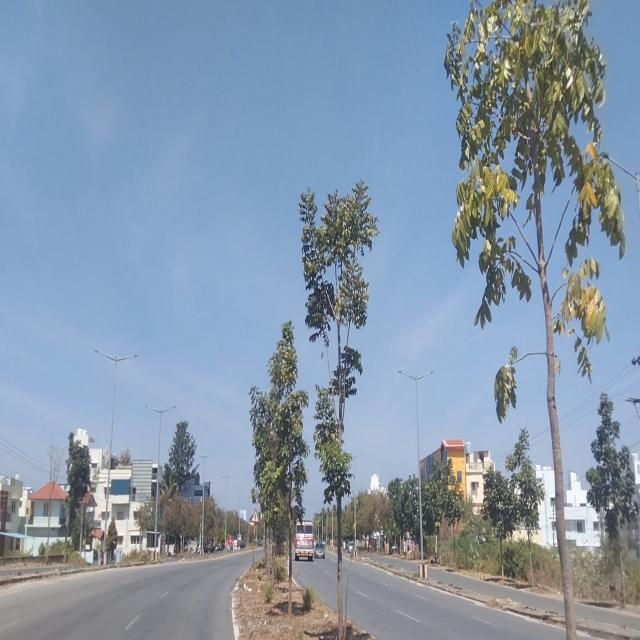bien_cam: (250, 508, 260, 523)
